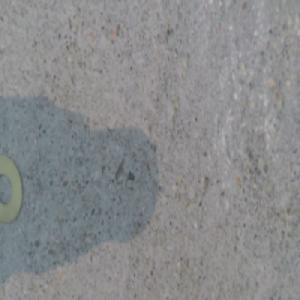Washer: (1, 155, 25, 220)
